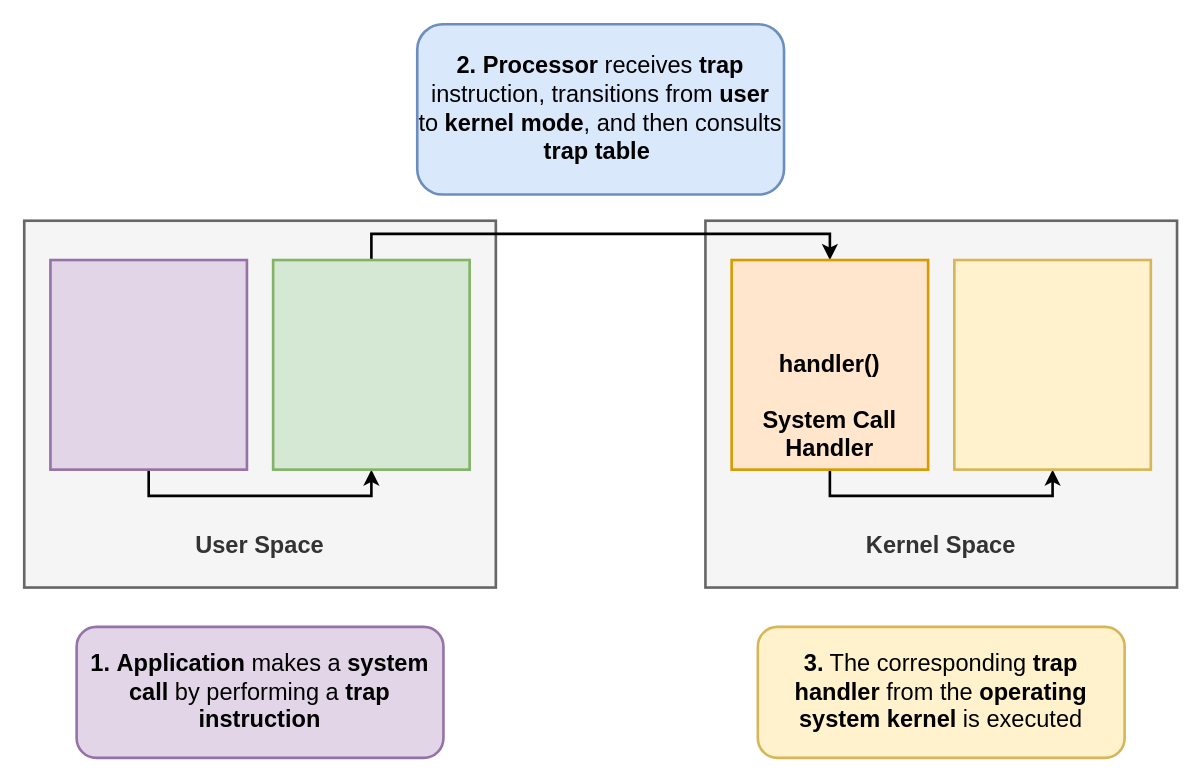
This 1200x781 diagram has some shape labels left out. The centre of each missing label's shape, as x and y in pixels:
call read() Application: (x=148, y=364)
read() wrapper C Library: (x=370, y=364)
sys_read(): (x=1051, y=364)
